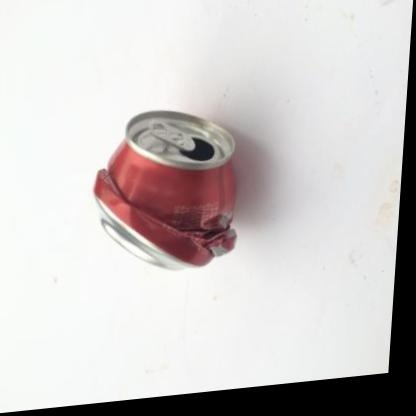trash: (94, 111, 235, 268)
